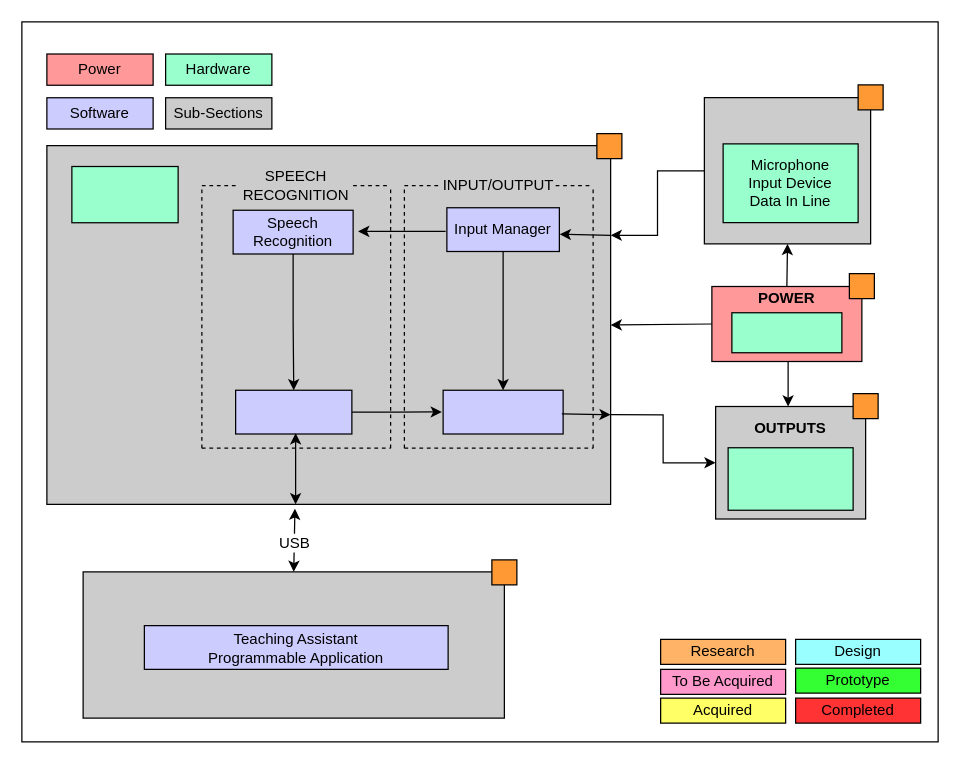
Some shapes in this 960 by 764 pixel diagram are drawn without their labels. The shapes that lost their labels are listed below. From the top down, each one's box as (x1, y1, x2, y2) in pixels, then its label:
(703, 96, 871, 244): INPUTS
(71, 165, 178, 223): CPU
(731, 312, 842, 353): Rechargable Battery
(234, 389, 352, 434): Data Prossesing
(442, 389, 563, 434): Output Manager
(727, 446, 853, 510): Speaker LCD Screen
(82, 571, 504, 718): COMPUTER
